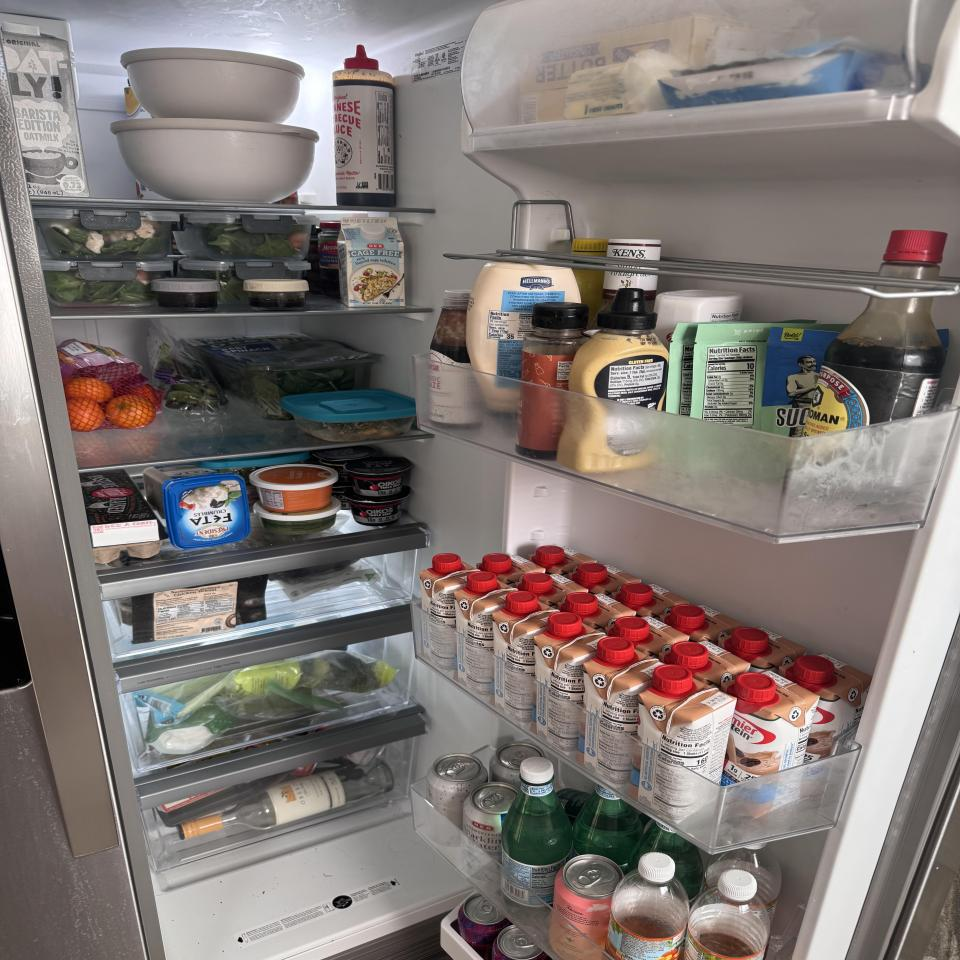Huevos: (78, 469, 169, 564)
Leche: (0, 20, 90, 198)
Mantequilla: (519, 13, 751, 94), (565, 48, 691, 118)
